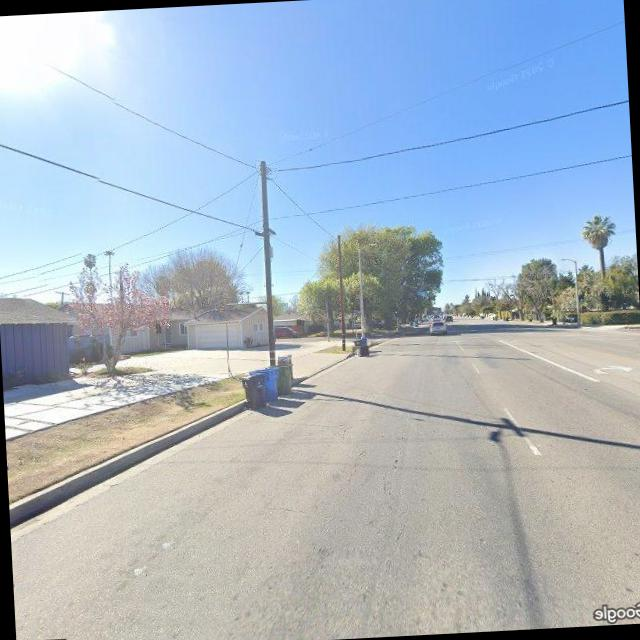crack: (344, 445, 369, 489)
